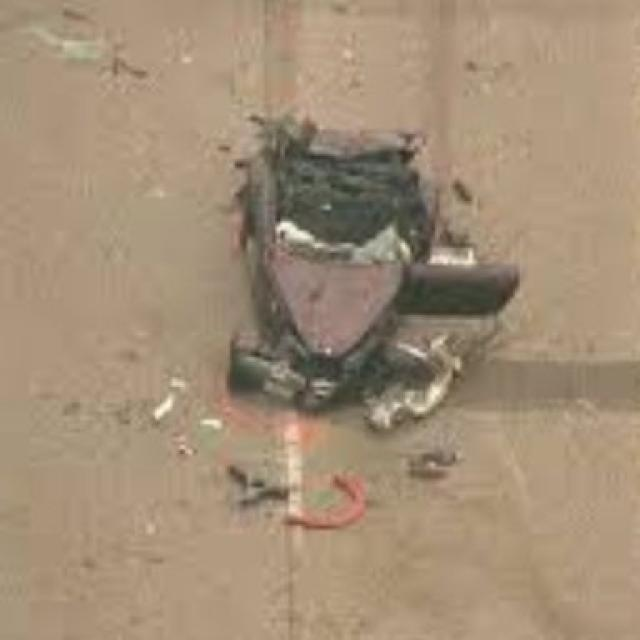traffic_incident: (224, 112, 464, 410)
